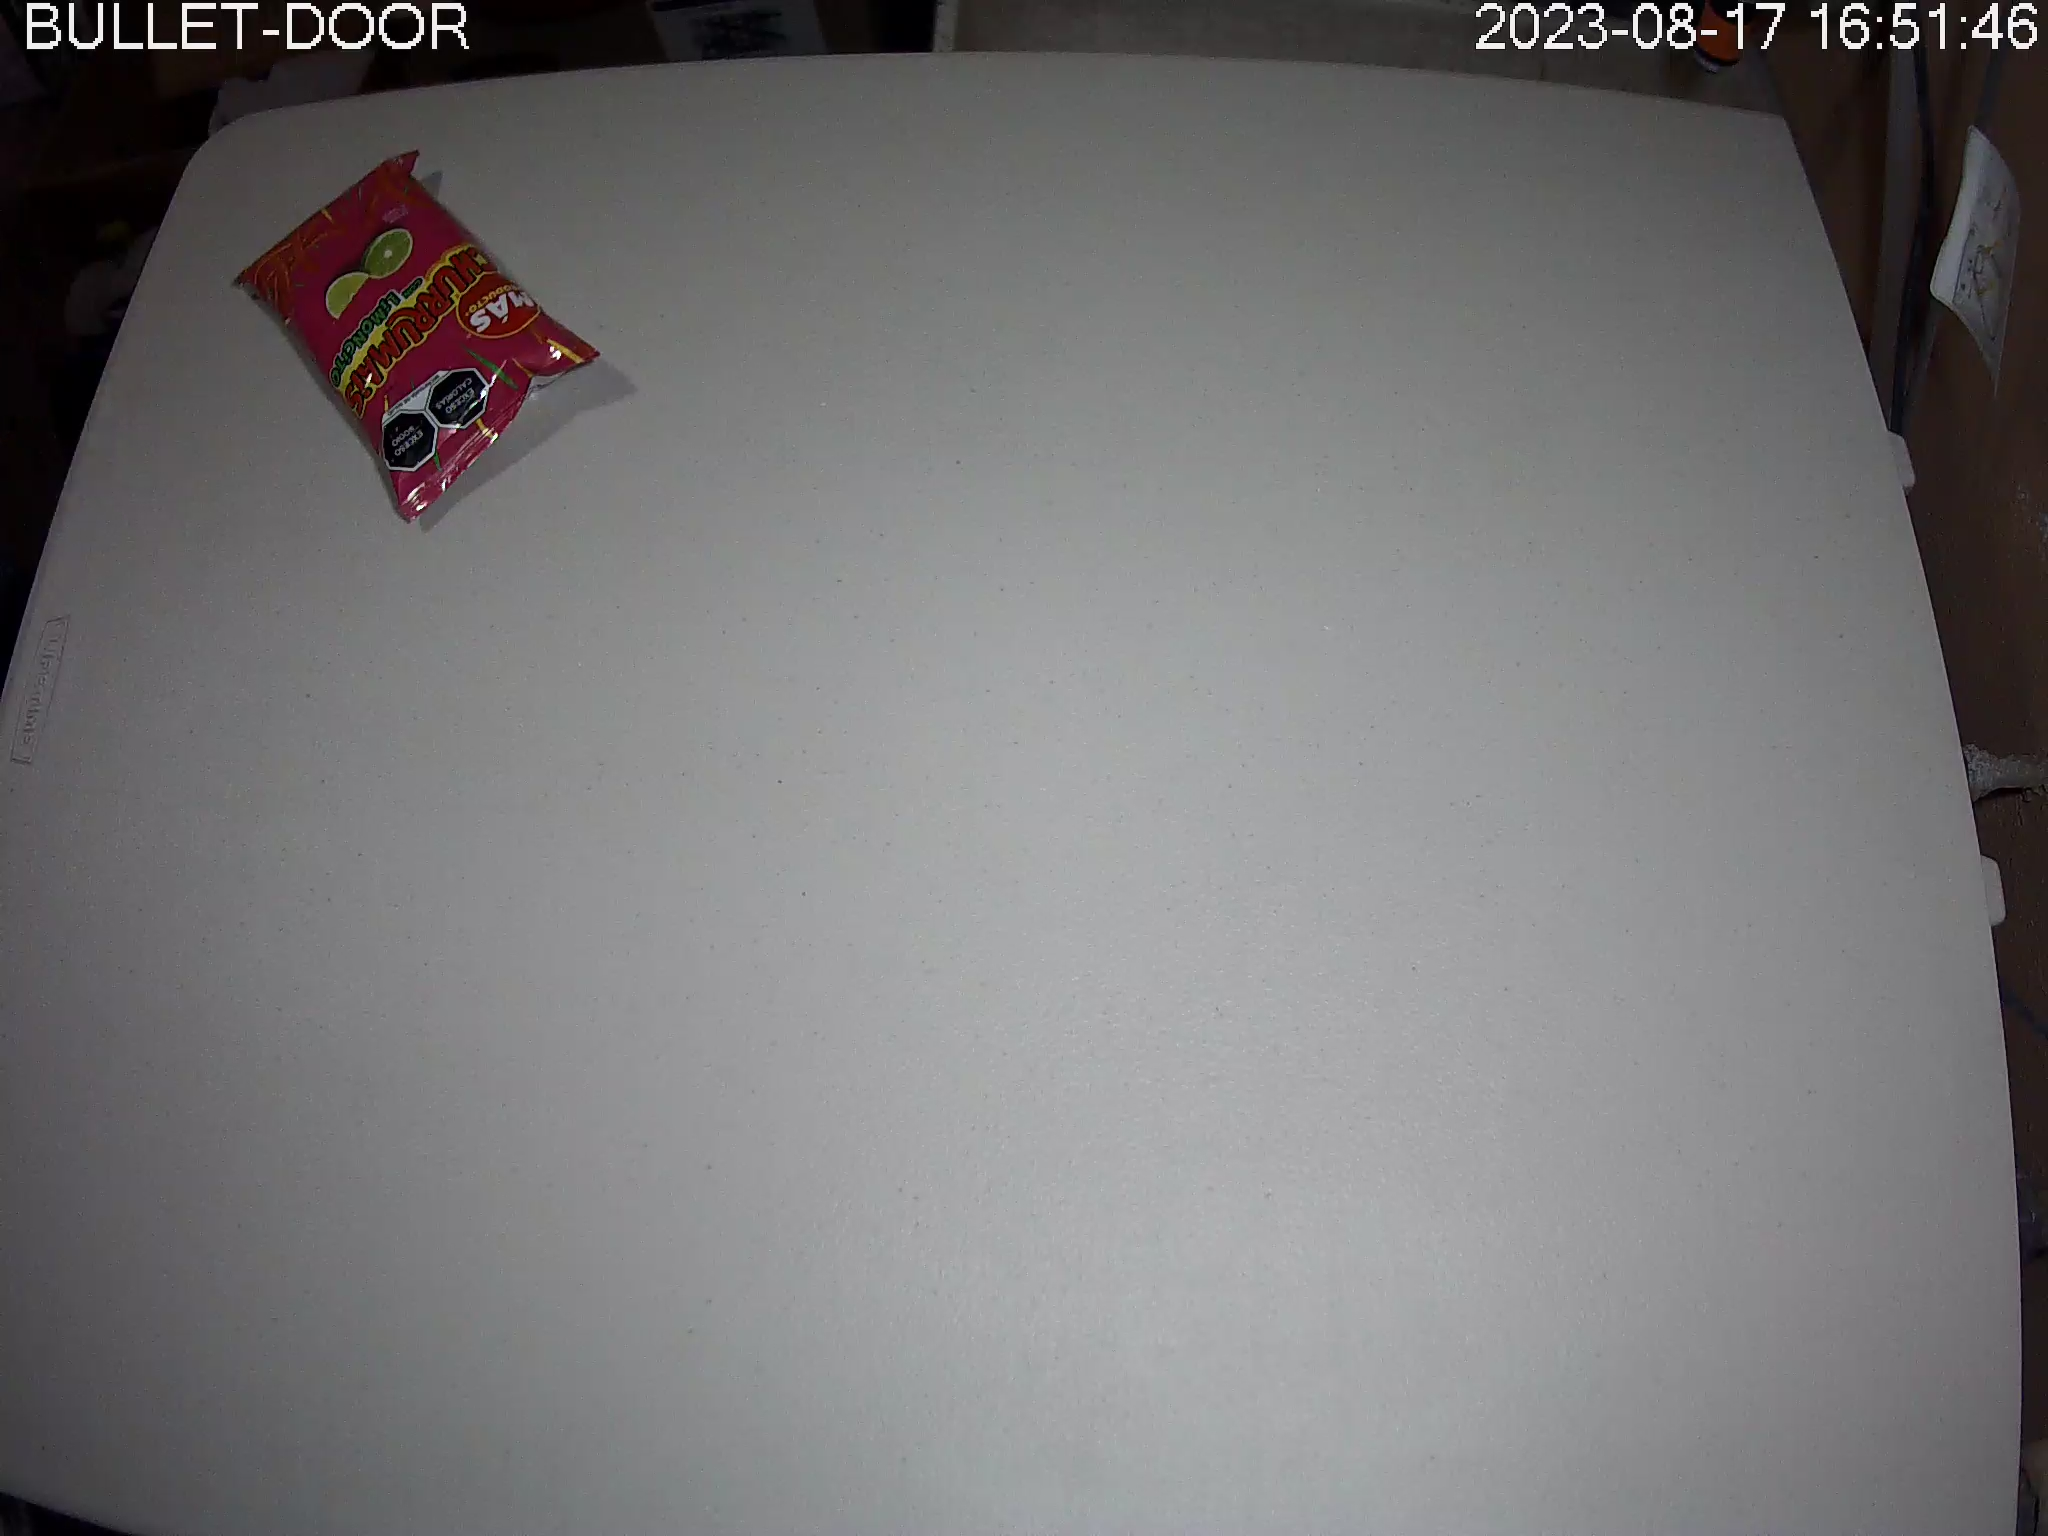Churrumais_70_F: (231, 148, 605, 524)
